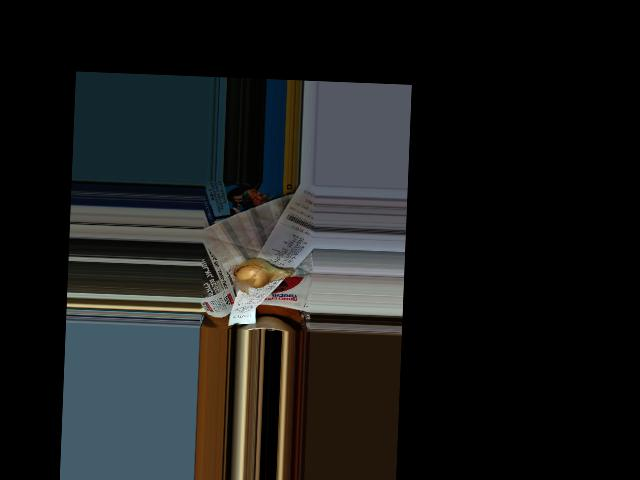onion: (235, 256, 291, 288)
